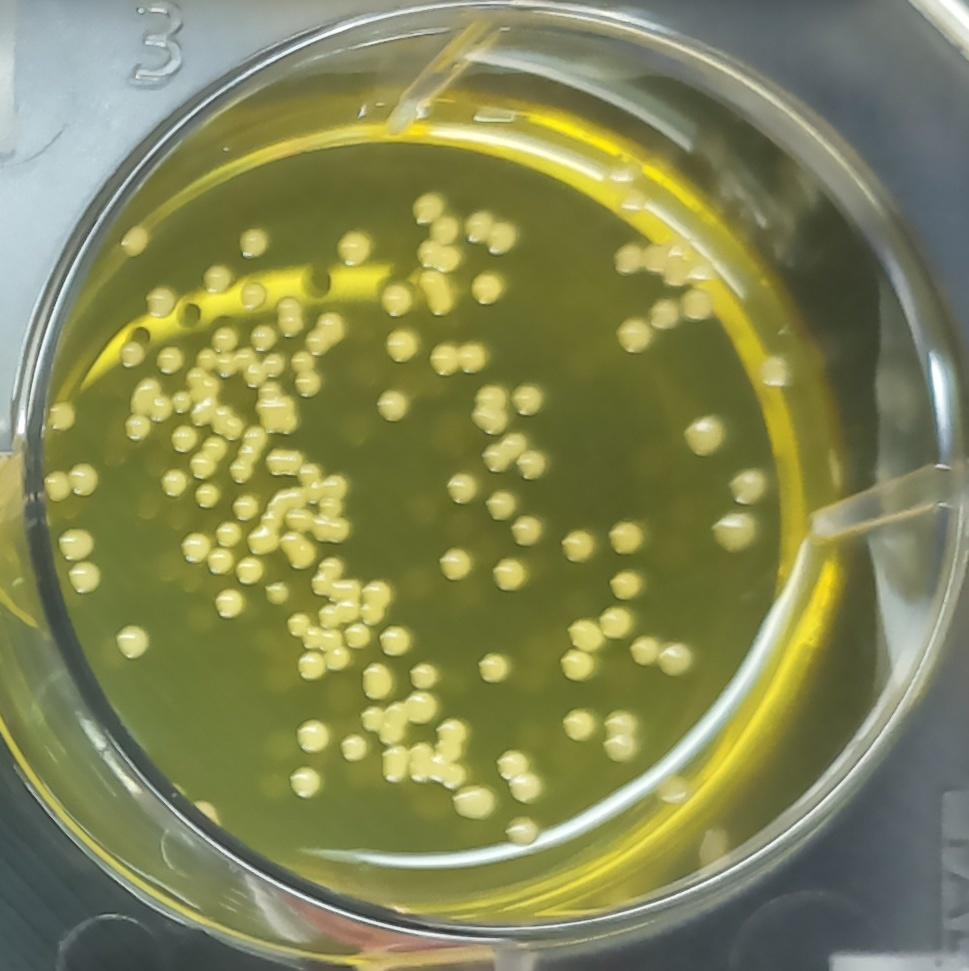staphylo-: (409, 192, 464, 277), (612, 235, 689, 289), (494, 748, 543, 807), (434, 716, 471, 793), (464, 209, 519, 259), (253, 382, 300, 438), (704, 507, 755, 556), (229, 424, 267, 486), (480, 430, 531, 476), (602, 705, 641, 765), (286, 612, 342, 653), (472, 378, 509, 438), (555, 702, 601, 750), (415, 268, 453, 326), (679, 410, 726, 456), (555, 524, 601, 569), (333, 228, 380, 272), (430, 343, 485, 379), (605, 516, 649, 560), (357, 577, 394, 628), (474, 647, 517, 690), (612, 313, 654, 357), (290, 714, 333, 756), (488, 552, 527, 597), (561, 613, 605, 652), (724, 465, 765, 506), (385, 322, 424, 365), (511, 378, 549, 422), (114, 622, 152, 664), (435, 545, 473, 584), (378, 279, 416, 318), (606, 566, 645, 603), (470, 270, 508, 307), (657, 641, 695, 678), (444, 470, 480, 508), (373, 387, 408, 425), (560, 647, 596, 683), (598, 604, 634, 640), (628, 632, 660, 670), (265, 445, 305, 475), (294, 651, 329, 681), (265, 577, 292, 606)
